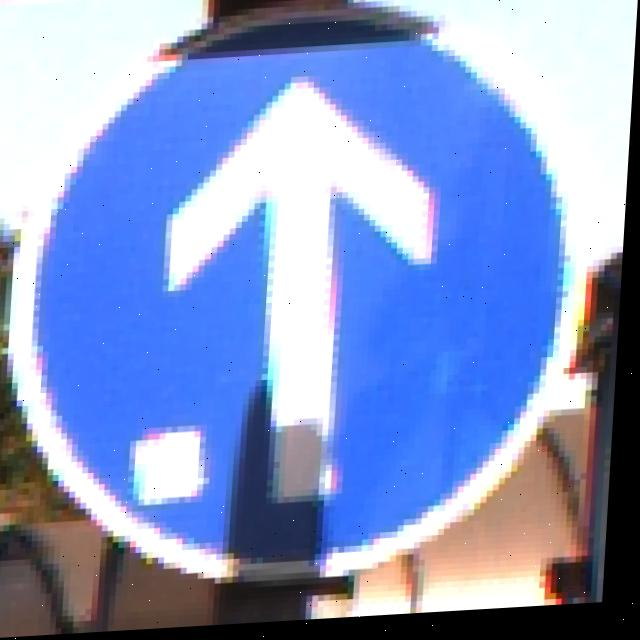compulsory_ahead: (38, 0, 613, 580)
